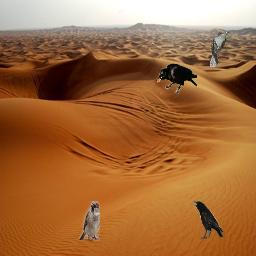Crow: (157, 63, 197, 94), (193, 200, 224, 240)
Cuckoo: (209, 31, 229, 67)
Sparrow: (79, 201, 100, 241)
